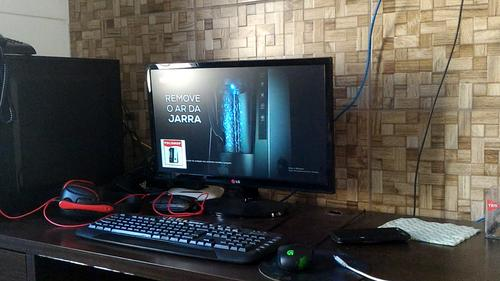Polishop #1: (160, 137, 187, 168)
